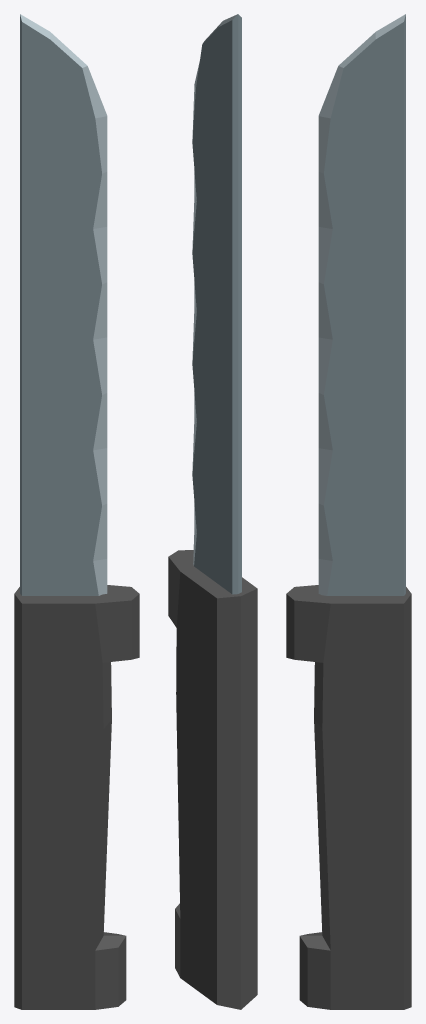
File: knife.gltf
The picture shows the model from 3 angles, left to right: view 1: azimuth 90°, elevation 25°; view 2: azimuth 210°, elevation 25°; view 3: azimuth 270°, elevation 25°; orthographic projection.
Parts seen in each view (by area): view 1: node-0; view 2: node-0; view 3: node-0.
Boxes of the visible parts, box(x1,y1,x2,y2) form: node-0: box(14, 14, 139, 1009); node-0: box(168, 14, 257, 1009); node-0: box(286, 14, 411, 1009).
Size of the model in its own units: 0.6003 by 14.07 by 1.61.
